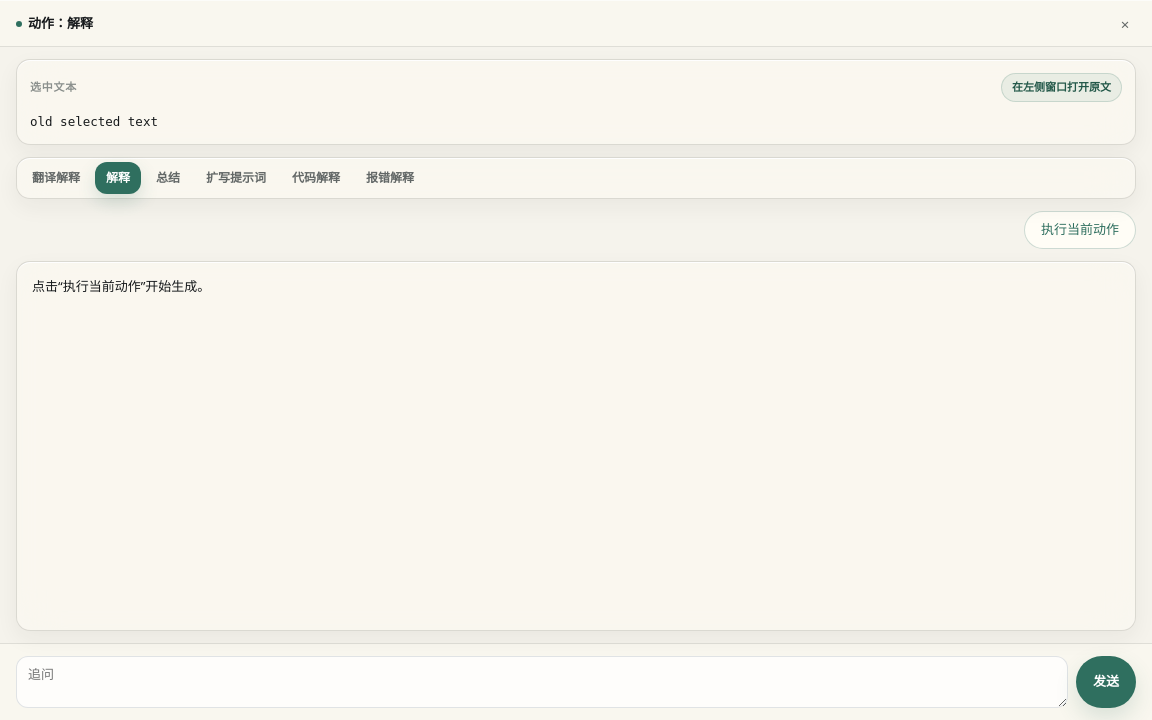
Scenario: AiPanel Tauri event lifecycle › syncs a different visible selection during generation without rerunning or replacing the active stream
Click the button "执行当前动作": (1080, 230) [1024,211,1136,249]
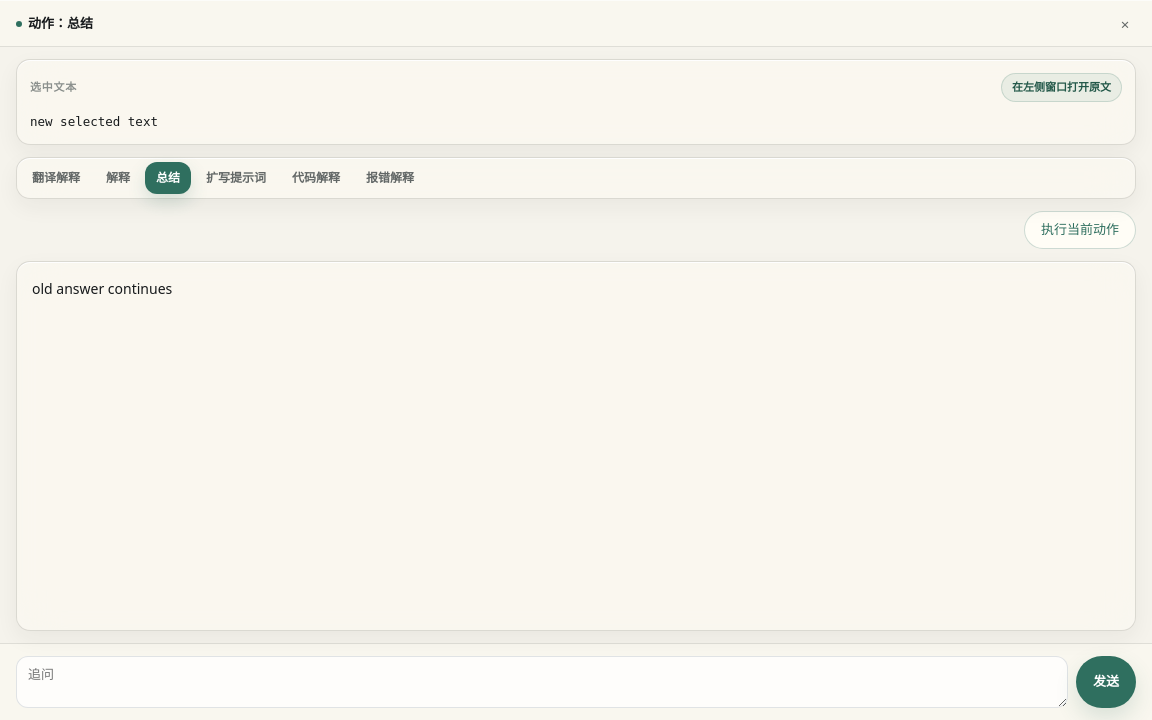
Check: the text "new selected text" is shown, box [30,114,158,128]
Check: the text "old answer continues" is shown, box [32,279,172,298]
Check: the text "动作：总结" is shown, box [16,14,93,34]
